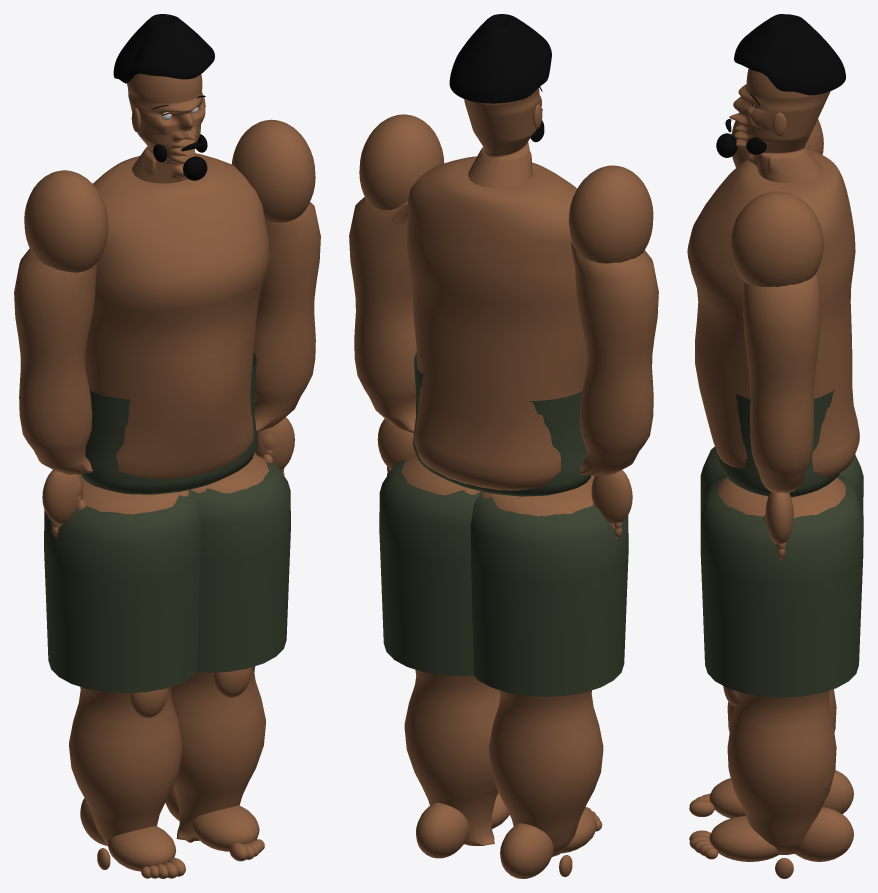
File: male_stocky.obj
The picture shows the model from 3 angles, left to right: view 1: azimuth 30°, elevation 25°; view 2: azimuth 150°, elevation 25°; view 3: azimuth 270°, elevation 25°; orthographic projection.
Parts seen in each view (by area): view 1: Body_male_stocky, Garment_Shorts, Hair_undercut, Facial_Hair; view 2: Body_male_stocky, Garment_Shorts, Hair_undercut; view 3: Body_male_stocky, Garment_Shorts, Hair_undercut, Facial_Hair.
Boxes of the visible parts, x1,y1,x2,y2 form: Body_male_stocky: (14, 73, 320, 878); Garment_Shorts: (44, 352, 290, 693); Hair_undercut: (113, 14, 214, 83); Facial_Hair: (153, 134, 207, 180); Body_male_stocky: (349, 88, 658, 878); Garment_Shorts: (379, 352, 628, 696); Hair_undercut: (449, 14, 551, 103); Body_male_stocky: (687, 69, 859, 878); Garment_Shorts: (700, 389, 863, 697); Hair_undercut: (734, 14, 845, 95); Facial_Hair: (716, 119, 766, 157).
Size of the model in its own units: 0.7123 by 1.91 by 0.3678.
